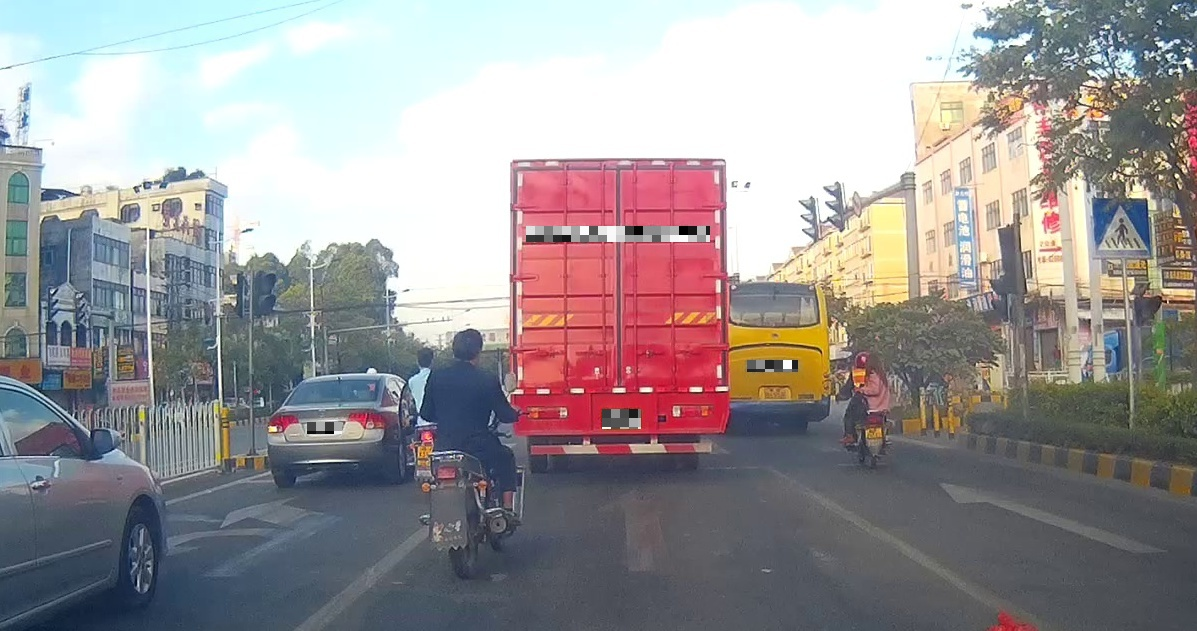L_light: (266, 414, 299, 433), (526, 406, 568, 419)
R_light: (347, 412, 385, 429), (672, 405, 714, 417)
T_light: (603, 169, 635, 180), (330, 379, 348, 385)
day-left: (266, 373, 407, 488)
day-no: (508, 158, 731, 470)
plate_1: (307, 422, 342, 434)
plate_2: (526, 226, 710, 242)
plate_3: (602, 409, 641, 429)
plate_4: (747, 360, 798, 372)
